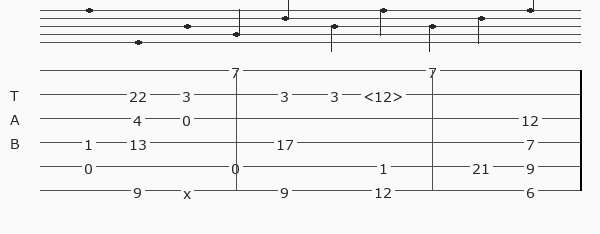0: (84, 159, 97, 173), (182, 111, 195, 125), (231, 159, 244, 173)
1: (84, 135, 97, 149), (379, 159, 392, 173)
12: (374, 183, 396, 197), (521, 111, 543, 125)
13: (129, 135, 151, 149)
17: (276, 135, 298, 149)
21: (472, 159, 494, 173)
22: (129, 87, 151, 101)
3: (182, 87, 195, 101), (280, 87, 293, 101), (330, 87, 343, 101)
4: (133, 111, 146, 125)
6: (526, 183, 539, 197)
7: (231, 63, 244, 77), (428, 63, 441, 77), (526, 135, 539, 149)
9: (133, 183, 146, 197), (280, 183, 293, 197), (526, 159, 539, 173)
harmonic: (363, 87, 407, 101)
x: (183, 184, 195, 196)
